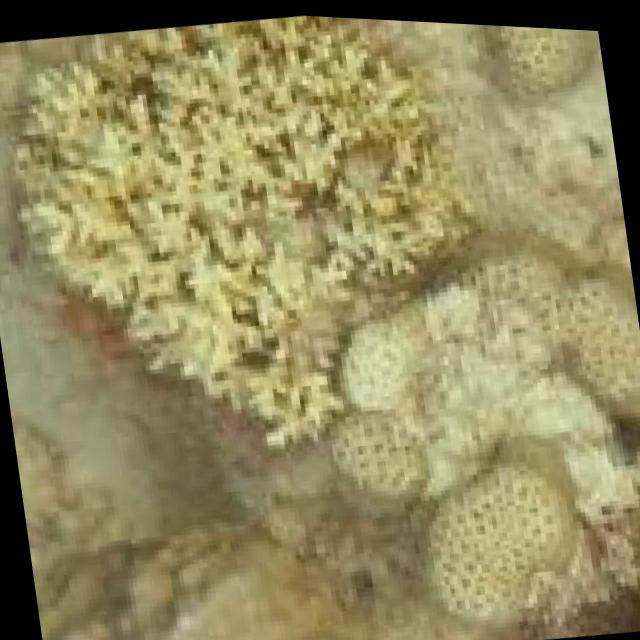Bleached Coral: (0, 0, 489, 481), (322, 236, 640, 634), (477, 19, 601, 111)
